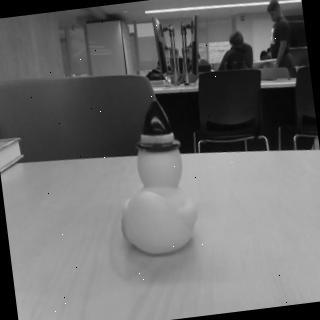duck_specialty: (106, 95, 205, 261)
